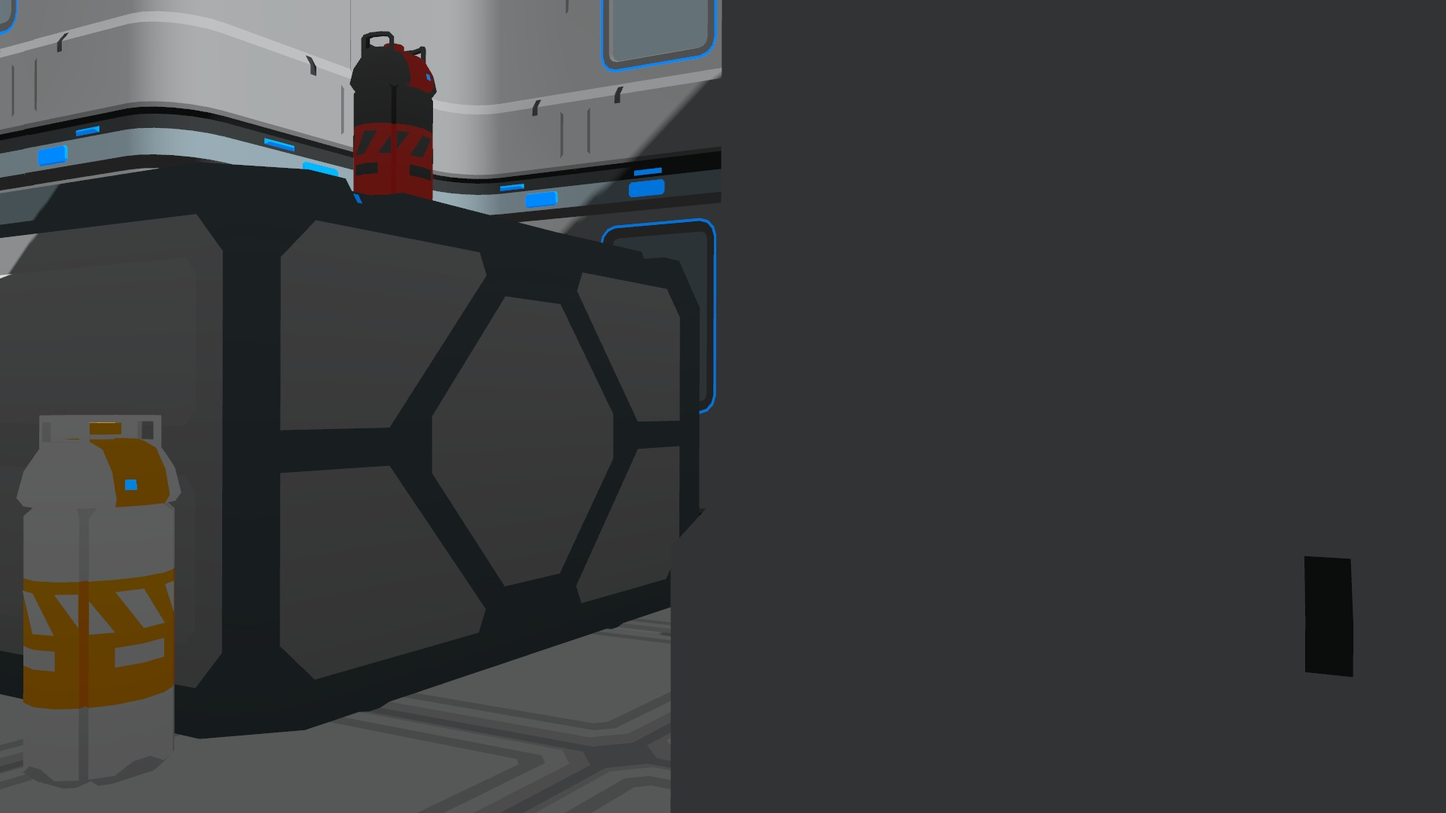red_barrel: (350, 25, 438, 206)
yellow_barrel: (0, 402, 185, 794), (178, 601, 186, 608)
